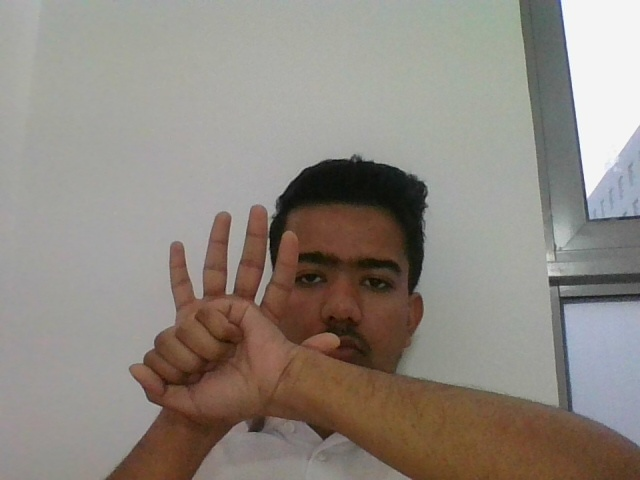coronavirus: (126, 204, 303, 431)
